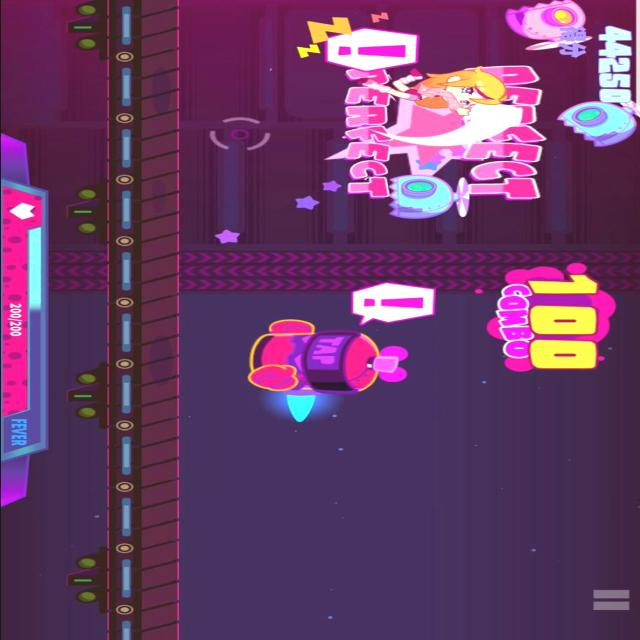jiqiqiu: (498, 0, 594, 50), (386, 172, 474, 224), (560, 94, 640, 150)
tapboss: (238, 317, 407, 423)
